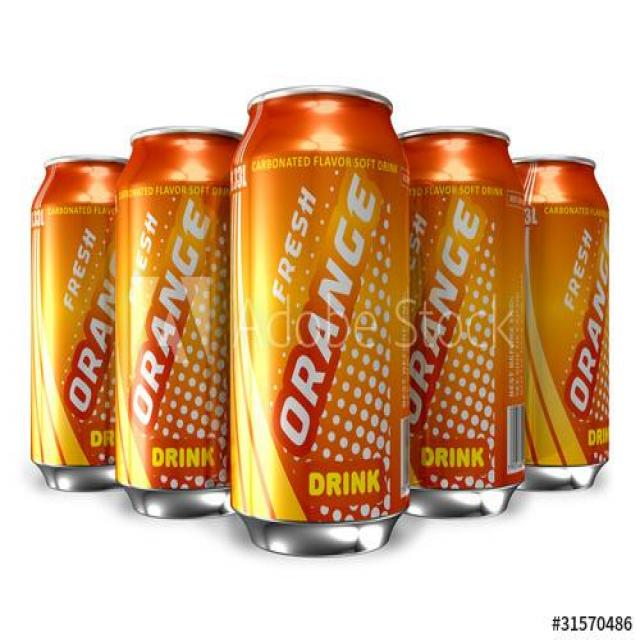metel: (221, 85, 422, 568), (380, 101, 532, 527), (113, 113, 253, 533), (486, 137, 618, 516), (33, 144, 134, 498)
